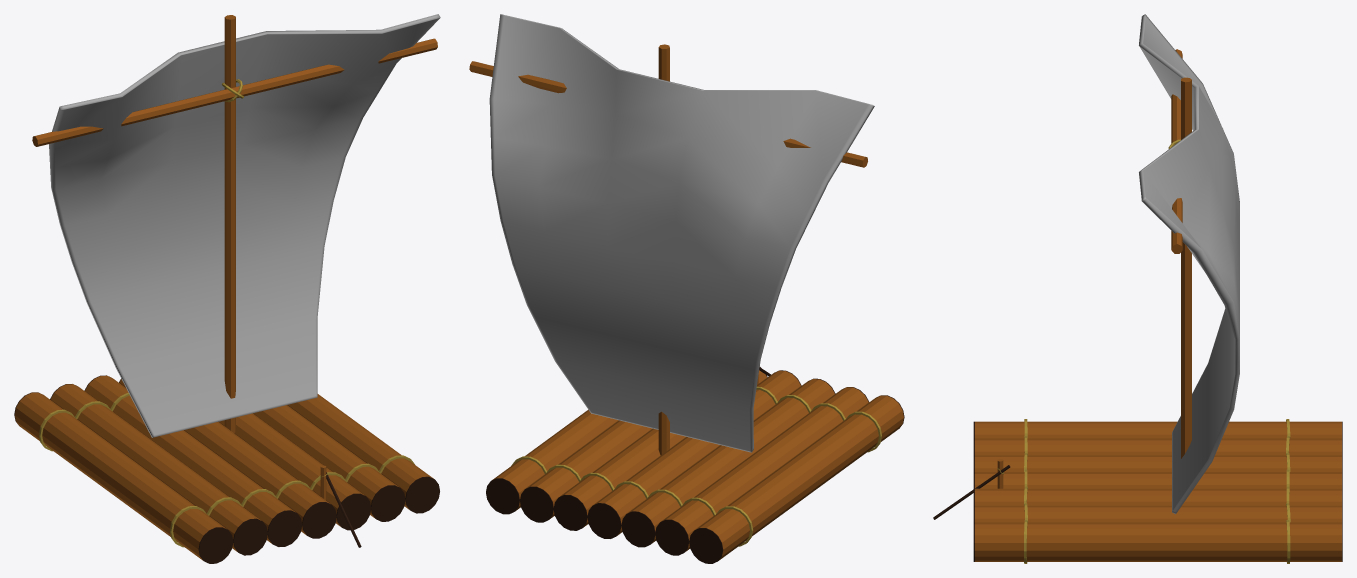
File: raftsail.FBX
The picture shows the model from 3 angles, left to right: view 1: azimuth 30°, elevation 25°; view 2: azimuth 150°, elevation 25°; view 3: azimuth 270°, elevation 25°; orthographic projection.
Visible parts, largest first — view 1: raftsail; view 2: raftsail; view 3: raftsail.
Part boxes in pixels (box(x1,y1,x2,y2)): raftsail: box(14, 14, 440, 563); raftsail: box(469, 14, 904, 563); raftsail: box(933, 14, 1342, 563).
Size of the model in its own units: 15.4 by 16.22 by 13.68.
